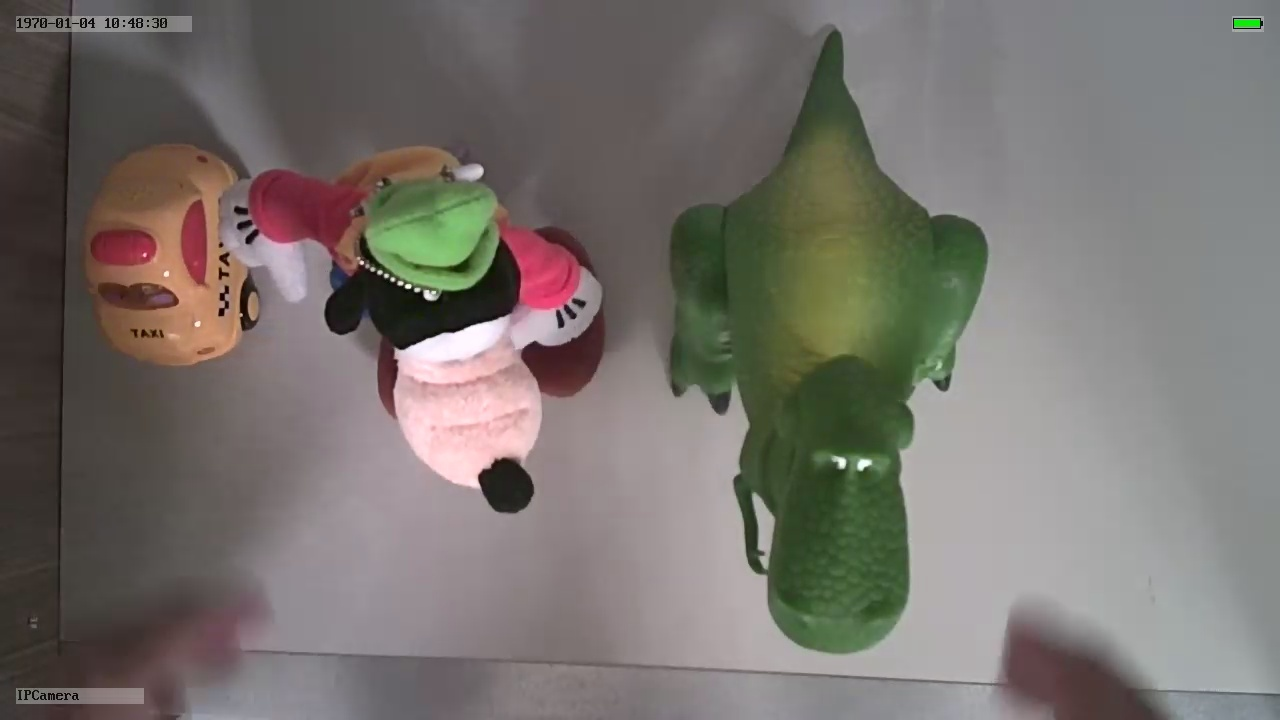car: (84, 139, 257, 367)
goofy: (225, 144, 607, 513)
rex: (664, 126, 988, 658)
